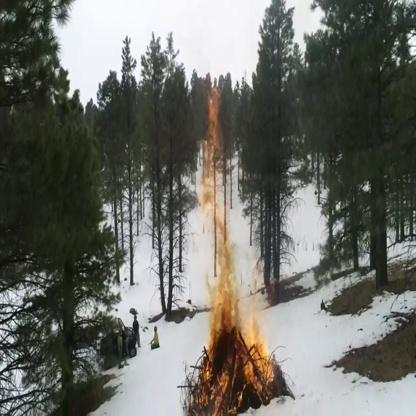Fire: (182, 76, 278, 415)
